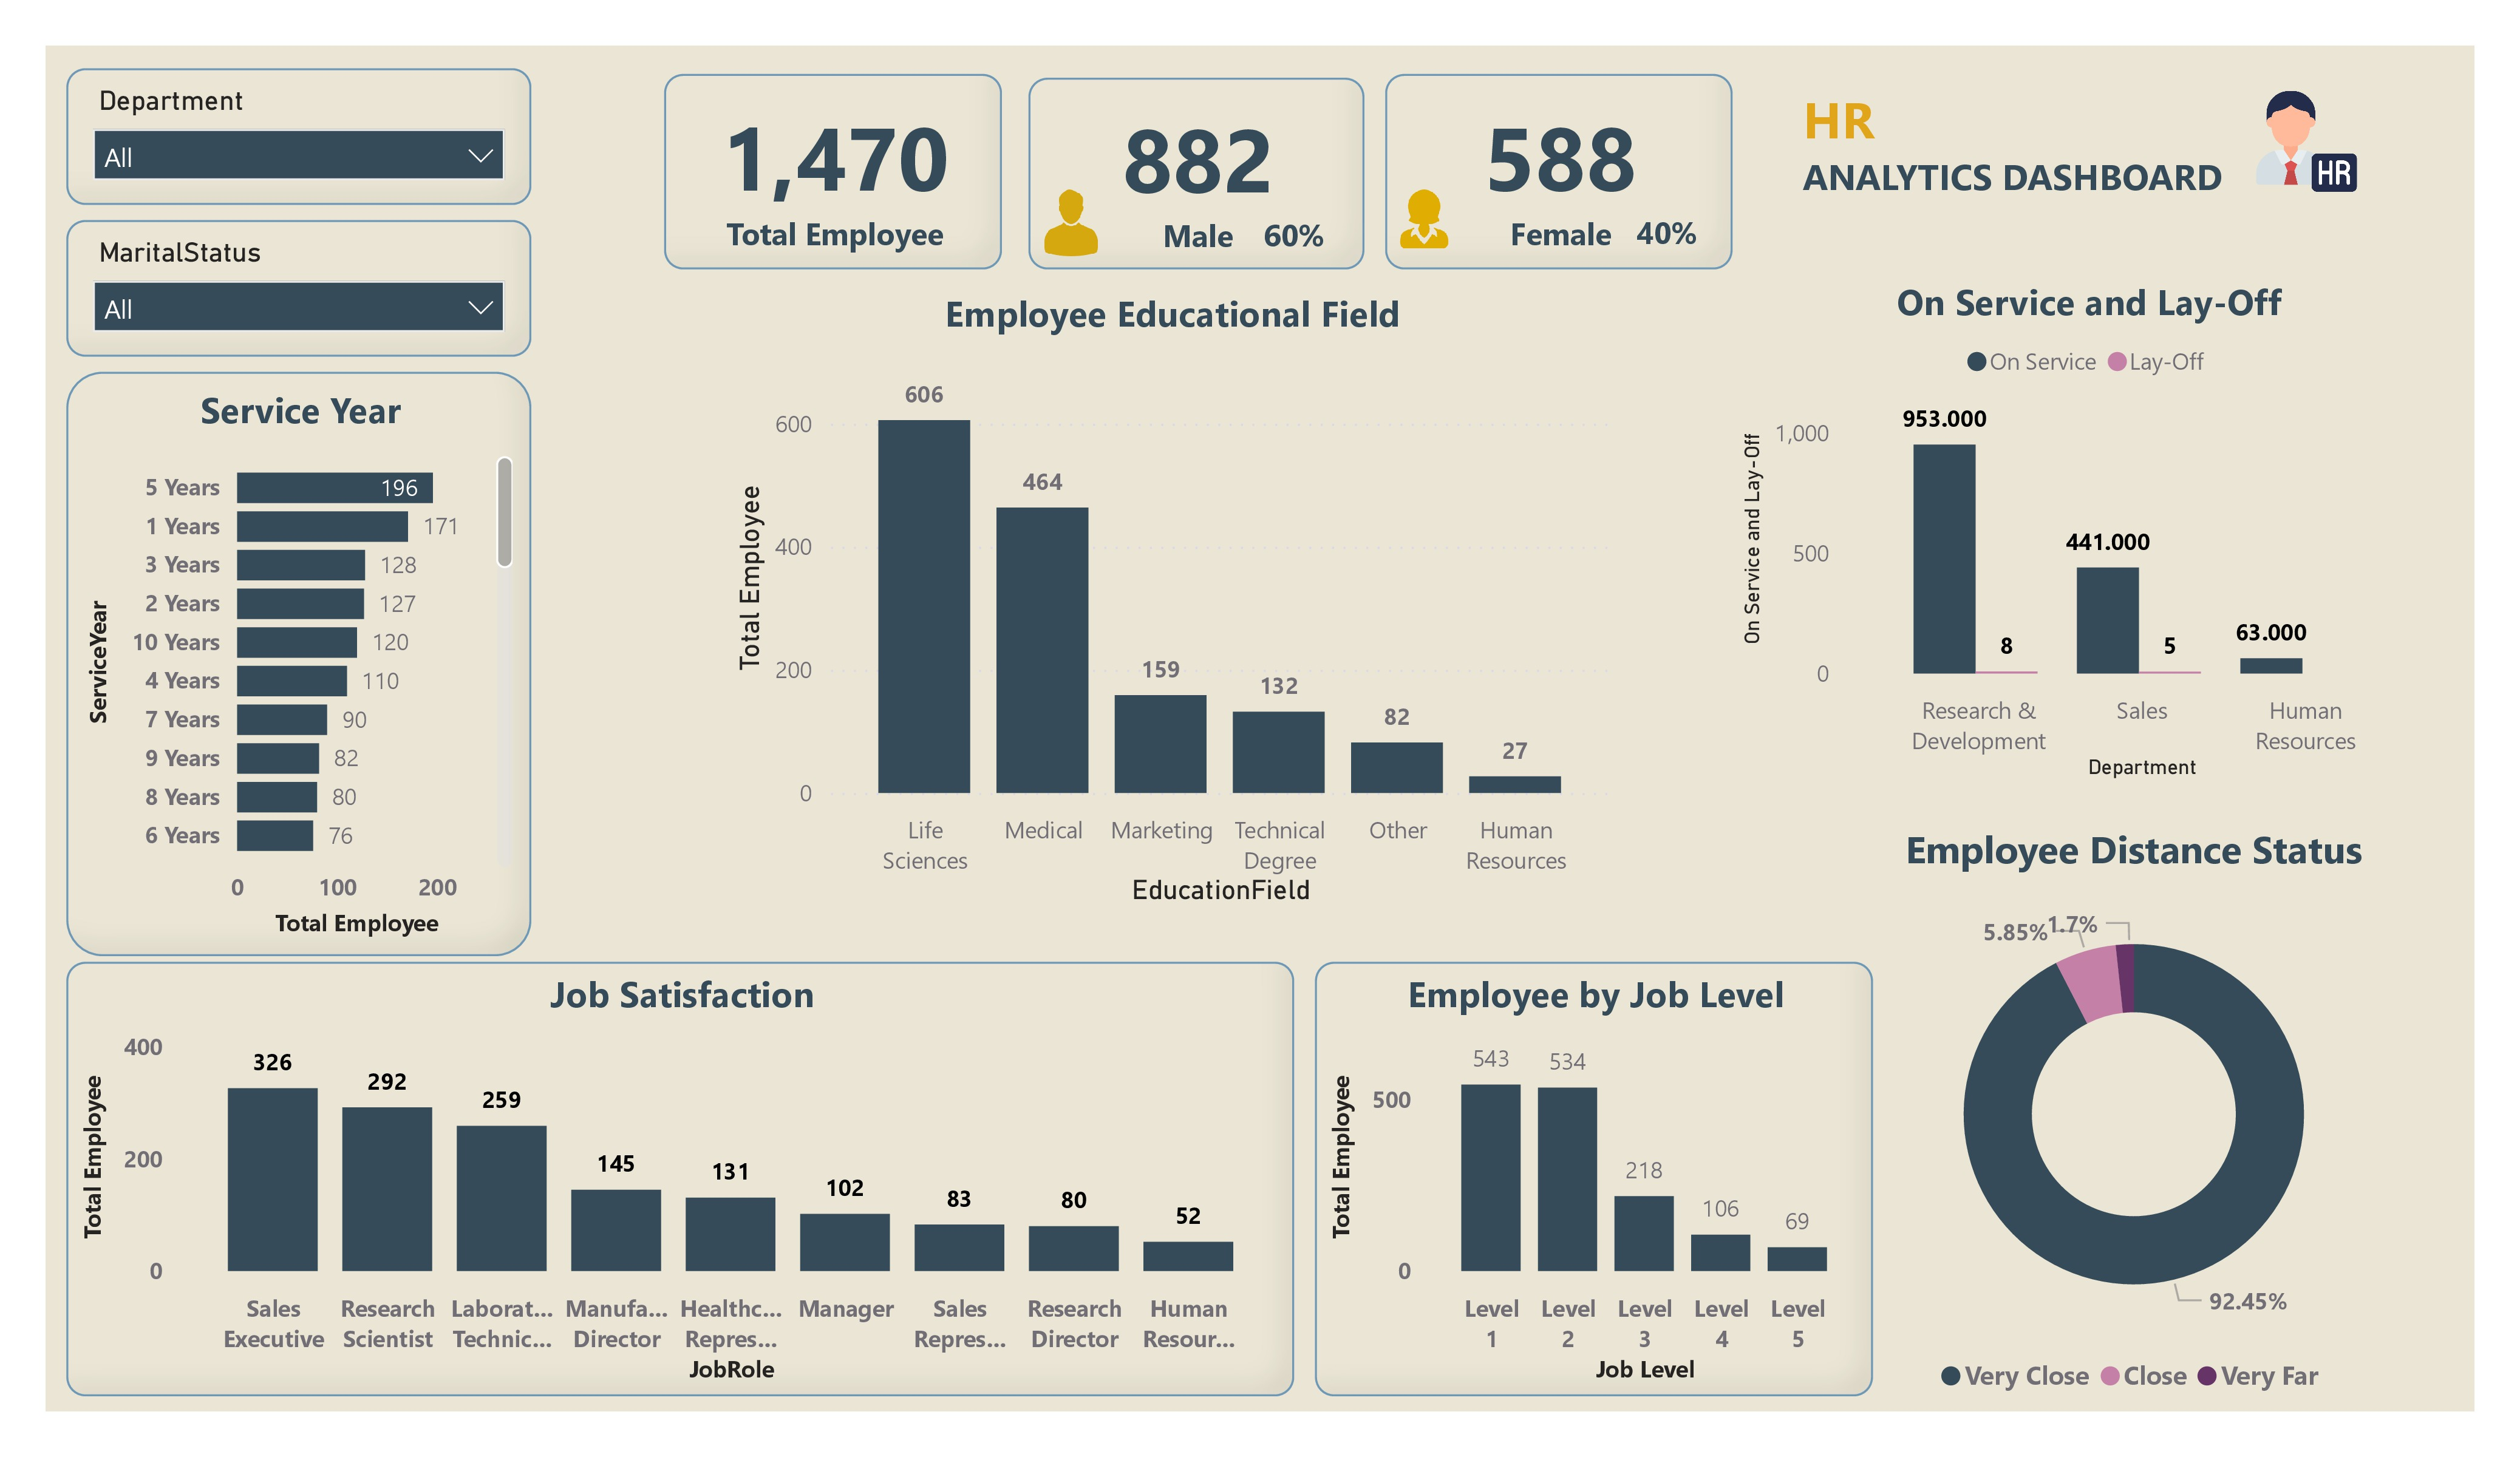

Layout of this report page (visuals, bound fields, positions):
{"tool":"powerbi","page":{"name":"Page 1","canvas":[1280,720],"ordinal":0},"visuals":[{"type":"card","fields":{"Values":["HR Analytics Data.Male"]},"box":[517.5,16.5,177.5,101.8],"z":0},{"type":"card","fields":{"Values":["HR Analytics Data.Female"]},"box":[706.1,15.1,183.1,103.2],"z":1000},{"type":"card","fields":{"Values":["HR Analytics Data.% Male"]},"box":[632.9,87.1,50,30],"z":2000},{"type":"card","fields":{"Values":["HR Analytics Data.% Female"]},"box":[829.9,84,49.5,33],"z":3000},{"type":"clusteredBarChart","title":" Service Year","fields":{"Category":["HR Analytics Data.ServiceYear"],"Y":["HR Analytics Data.Total Employee"]},"box":[11,172,245,308.3],"z":4000},{"type":"clusteredColumnChart","title":"Employee by Job Level","fields":{"Category":["HR Analytics Data.Job Level"],"Y":["HR Analytics Data.Total Employee"]},"box":[668.9,483.1,294.5,228.5],"z":5000},{"type":"clusteredColumnChart","title":"On Service and Lay-Off","fields":{"Category":["HR Analytics Data.Department"],"Y":["HR Analytics Data.On Service","HR Analytics Data.Lay-Off"]},"box":[889.1,122.5,375.7,268.4],"z":6000},{"type":"donutChart","title":"Employee Distance Status","fields":{"Y":["HR Analytics Data.Total Employee"],"Category":["HR Analytics Data.Distance Status"]},"box":[920.8,408.8,359.2,311.1],"z":7000},{"type":"clusteredColumnChart","title":"Job Satisfaction","fields":{"Y":["HR Analytics Data.Total Employee"],"Category":["HR Analytics Data.JobRole"]},"box":[11,483.1,646.9,228.5],"z":8000},{"type":"textbox","box":[920.8,15.1,238.1,95],"z":9000},{"type":"image","box":[517.5,67.4,45.4,52.3],"z":10000},{"type":"image","box":[706.1,67.4,41.3,48.2],"z":11000},{"type":"image","box":[1158.9,16.5,64.7,67.4],"z":12000},{"type":"slicer","fields":{"Values":["HR Analytics Data.Department"]},"box":[11,12.4,245,71.6],"z":13000},{"type":"card","fields":{"Values":["HR Analytics Data.Total Employee"]},"box":[326.2,15.1,177.5,103.2],"z":14000},{"type":"slicer","fields":{"Values":["HR Analytics Data.MaritalStatus"]},"box":[11,92.2,245,71.6],"z":16000},{"type":"columnChart","title":"Employee Educational Field","fields":{"Category":["HR Analytics Data.EducationField"],"Y":["HR Analytics Data.Total Employee"]},"box":[357.8,128,472.1,330.3],"z":17000}]}

Visuals, with their boxes in screenshot pixels (x1, y1, x2, y2):
card - HR Analytics Data.Male: select_region(1027, 77, 1364, 270)
card - HR Analytics Data.Female: select_region(1386, 74, 1733, 270)
card - HR Analytics Data.% Male: select_region(1247, 211, 1341, 268)
card - HR Analytics Data.% Female: select_region(1620, 205, 1714, 268)
" Service Year" clusteredBarChart: select_region(66, 372, 531, 957)
"Employee by Job Level" clusteredColumnChart: select_region(1315, 962, 1874, 1396)
"On Service and Lay-Off" clusteredColumnChart: select_region(1732, 278, 2446, 787)
"Employee Distance Status" donutChart: select_region(1793, 821, 2474, 1411)
"Job Satisfaction" clusteredColumnChart: select_region(66, 962, 1294, 1396)
textbox: select_region(1793, 74, 2245, 254)
image: select_region(1027, 174, 1114, 273)
image: select_region(1386, 174, 1464, 265)
image: select_region(2245, 77, 2368, 205)
slicer - HR Analytics Data.Department: select_region(66, 69, 531, 205)
card - HR Analytics Data.Total Employee: select_region(664, 74, 1001, 270)
slicer - HR Analytics Data.MaritalStatus: select_region(66, 220, 531, 356)
"Employee Educational Field" columnChart: select_region(724, 288, 1620, 915)
